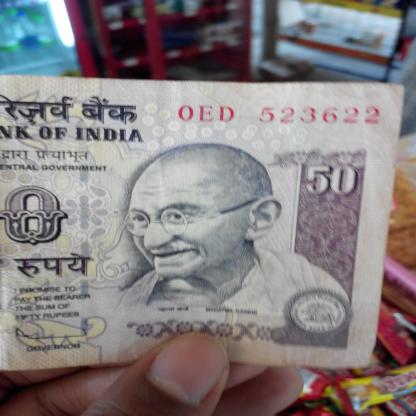Old50Front: (0, 76, 406, 372)
